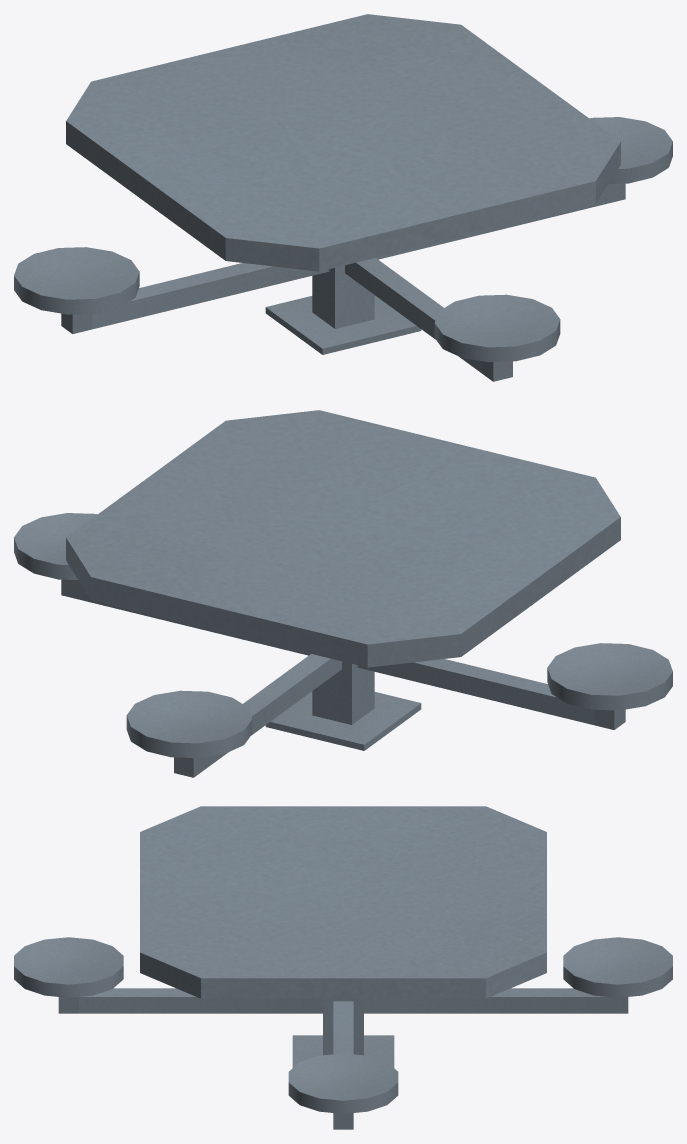
File: cafeteria_table.fbx
3 views of the same model, one above another, from view 1: azimuth 30°, elevation 25°; view 2: azimuth 150°, elevation 25°; view 3: azimuth 270°, elevation 25° (orthographic). The views are drawn at different scales.
Parts seen in each view (by area): view 1: cafeteria_table; view 2: cafeteria_table; view 3: cafeteria_table.
Part boxes in pixels (box(x1,y1,x2,y2)): cafeteria_table: box(14, 14, 672, 381); cafeteria_table: box(14, 410, 672, 777); cafeteria_table: box(14, 806, 672, 1129).
Size of the model in its own units: 325 by 92.29 by 324.
Materials: 1 (1 with a texture image).
